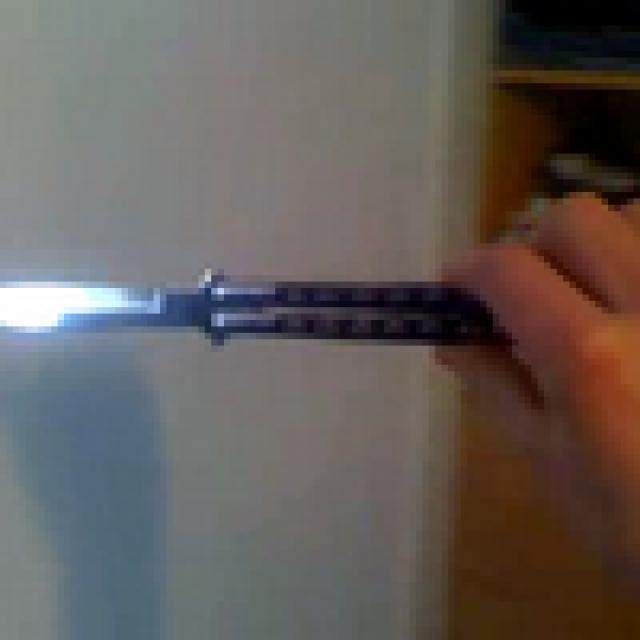knife: (0, 231, 531, 436)
